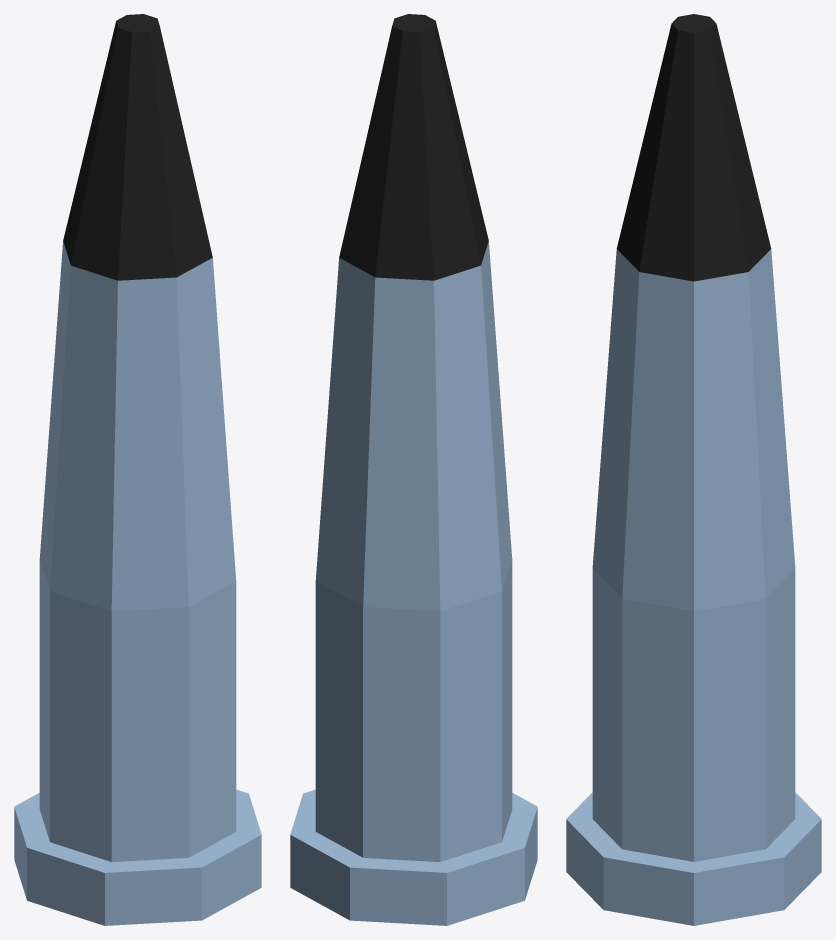
File: Normal_Missile_Player.fbx
3 renders of one model, left to right at view 1: azimuth 30°, elevation 25°; view 2: azimuth 150°, elevation 25°; view 3: azimuth 270°, elevation 25°, orthographic.
Parts seen in each view (by area): view 1: Cylinder; view 2: Cylinder; view 3: Cylinder.
Part boxes in pixels (x1,y1,x2,y2): Cylinder: [14, 14, 261, 925]; Cylinder: [290, 14, 537, 925]; Cylinder: [566, 14, 821, 925].
Size of the model in its own units: 108 by 397 by 108.
